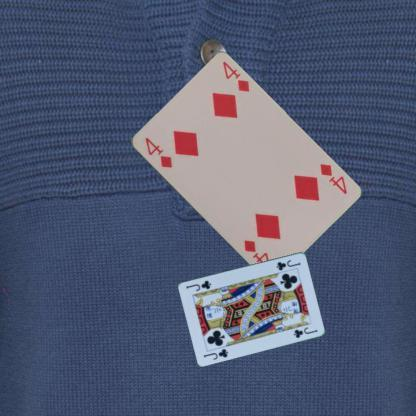4d: (316, 160, 348, 196), (142, 134, 173, 169)
Jc: (201, 346, 230, 361), (274, 257, 301, 272)
